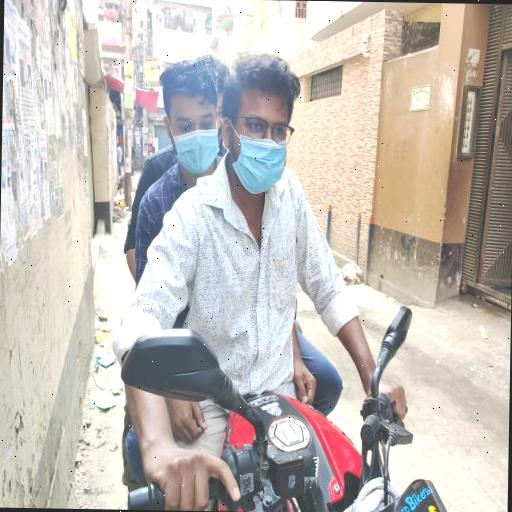no helmet: (237, 52, 315, 230)
triple riding: (96, 30, 487, 512)
